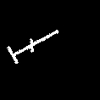double_crochet: (8, 30, 57, 62)
